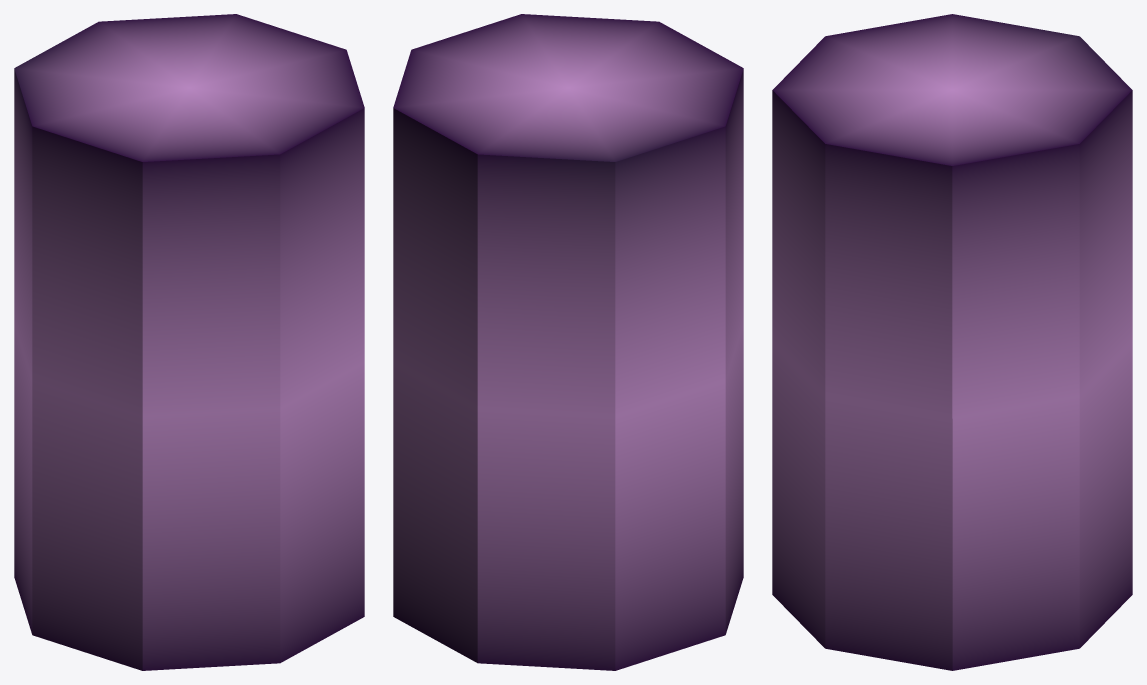
Rendered from barrel.glb.
The picture shows the model from 3 angles, left to right: view 1: azimuth 30°, elevation 25°; view 2: azimuth 150°, elevation 25°; view 3: azimuth 270°, elevation 25°; orthographic projection.
Visible parts, largest first — view 1: Cylinder; view 2: Cylinder; view 3: Cylinder.
Part boxes in pixels (bbox=[...]): Cylinder: bbox=[14, 14, 364, 670]; Cylinder: bbox=[393, 14, 743, 670]; Cylinder: bbox=[772, 14, 1132, 670].
Bounding box in the file's own units: 2 × 3.09 × 2.
